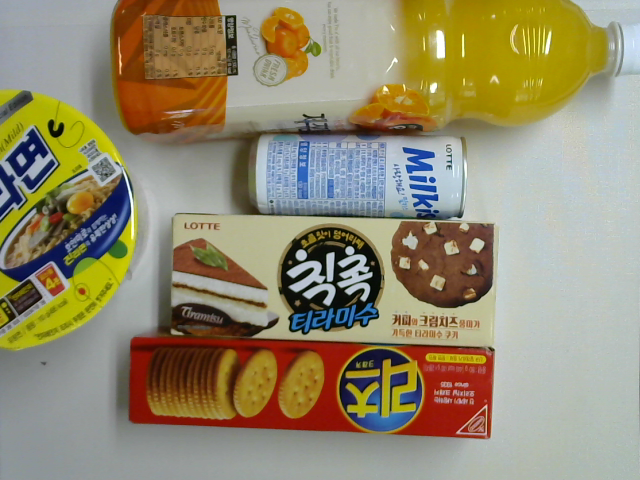Chicchok_Tiramisu: (166, 209, 502, 342)
Jeju_Tangerine_1.5L: (112, 1, 633, 149)
Jinlamyeon_Mild_Taste_Large_Cup: (1, 86, 151, 357)
Milkies_250ml: (246, 126, 471, 220)
Ritz_Cracker: (134, 336, 499, 445)
